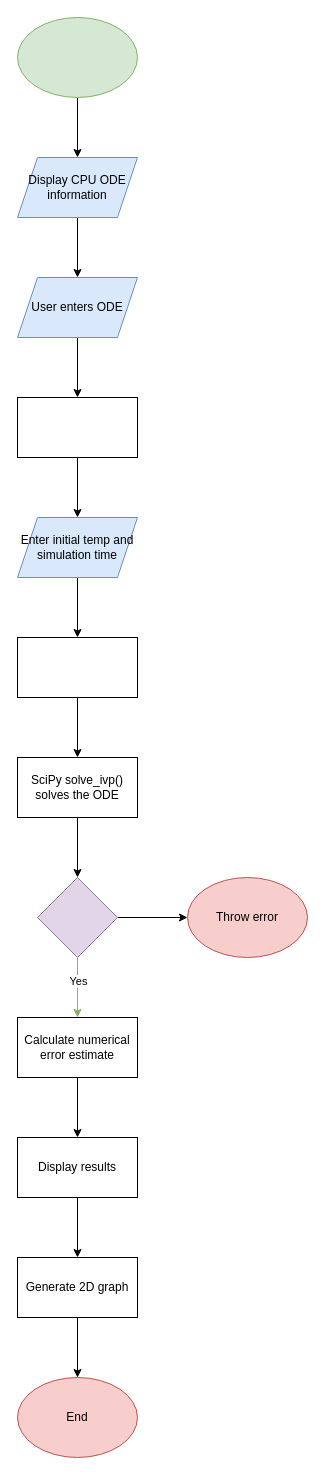
Image size: 325x1475. Some labels were removed from this diagram. The shapes that lost their labels are listed below. From the top down, each one's centre as x and y in pixels, then its label:
At pixel 77 57: "Start".
At pixel 77 427: "SymPy interprets equation".
At pixel 77 667: "Generate time points".
At pixel 77 917: "Solver worked?".
